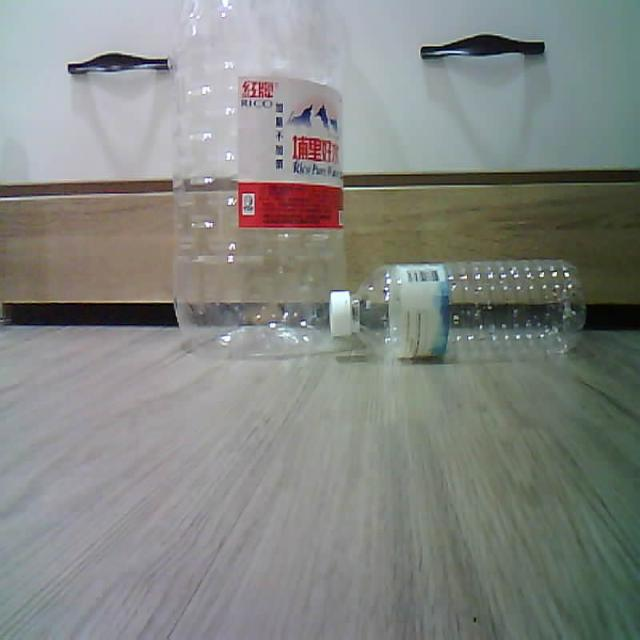bottle: (173, 0, 346, 354), (329, 260, 585, 358)
